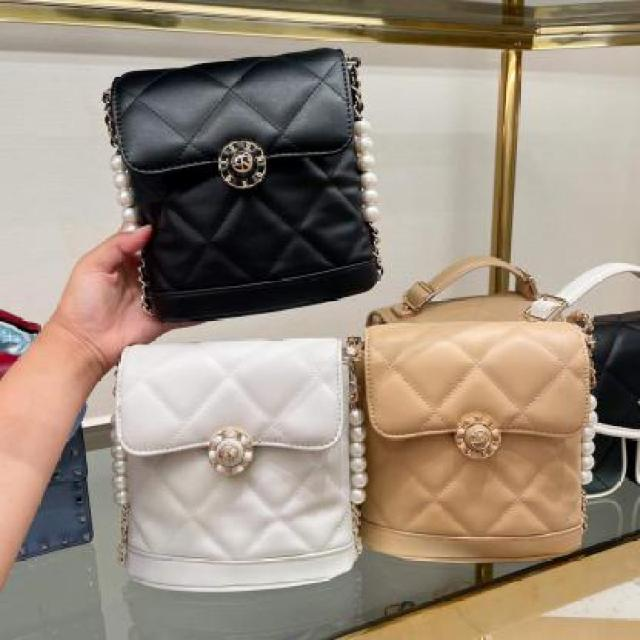Bag: (82, 21, 396, 328), (342, 250, 627, 584), (84, 311, 384, 597)
